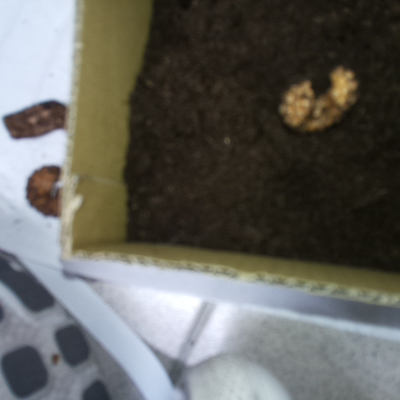eggs: (276, 62, 361, 136)
